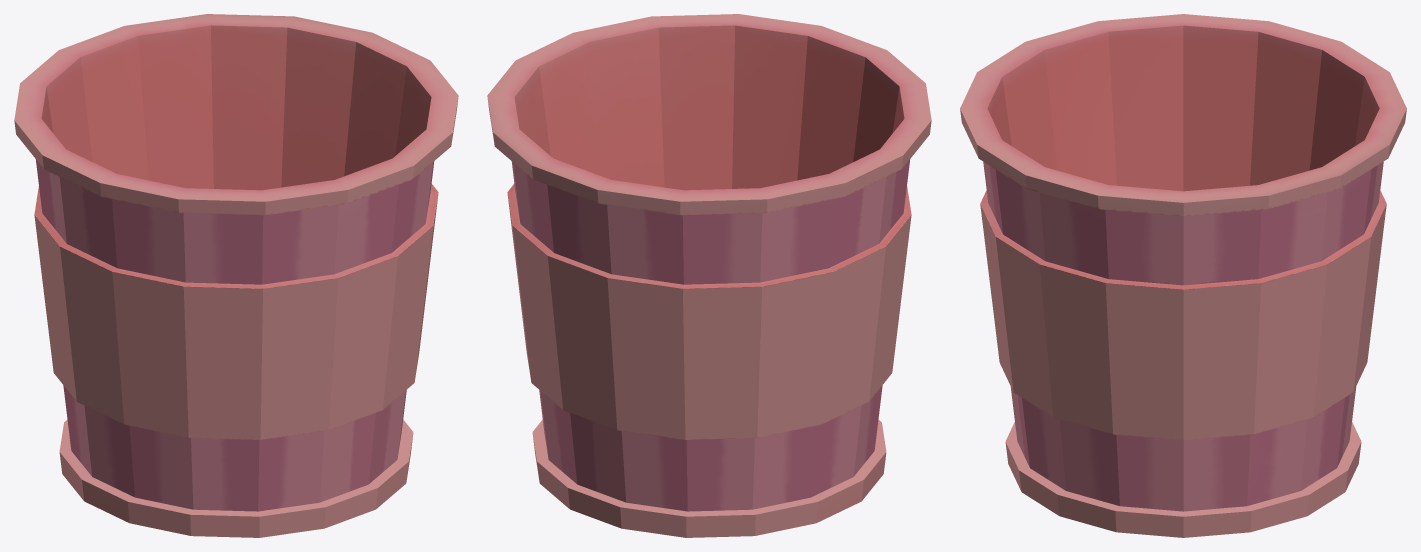
File: cucurucho_5.fbx
3 views of the same model, side by side, from view 1: azimuth 30°, elevation 25°; view 2: azimuth 150°, elevation 25°; view 3: azimuth 270°, elevation 25° (orthographic).
Parts seen in each view (by area): view 1: cucurucho5; view 2: cucurucho5; view 3: cucurucho5.
Part boxes in pixels (<box>): cucurucho5: <box>14,14,458,537</box>; cucurucho5: <box>487,14,931,537</box>; cucurucho5: <box>960,14,1406,537</box>.
Bounding box in the file's own units: 232 × 204 × 232.
1 material, 1 textured.
